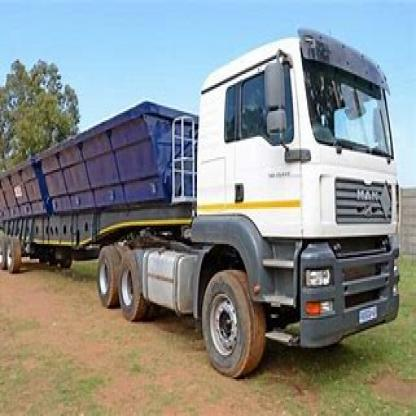dump_truck: (7, 26, 412, 383)
